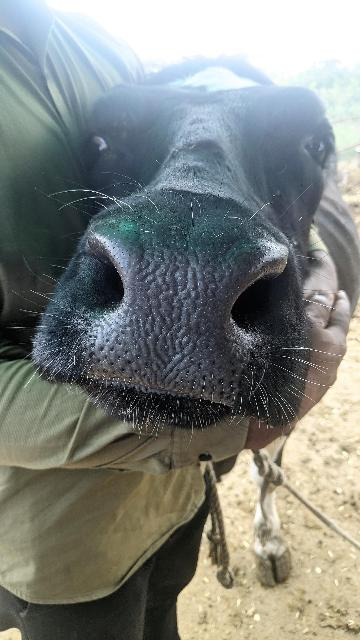Muzzle: (95, 222, 243, 398)
